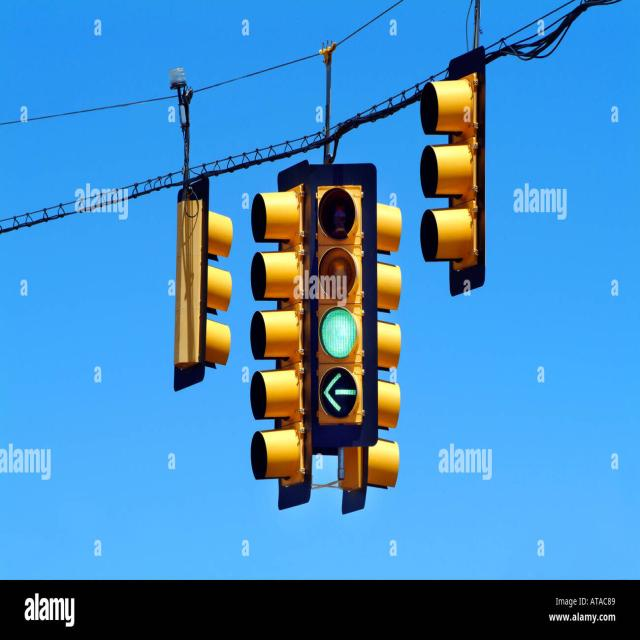green: (307, 296, 383, 366)
